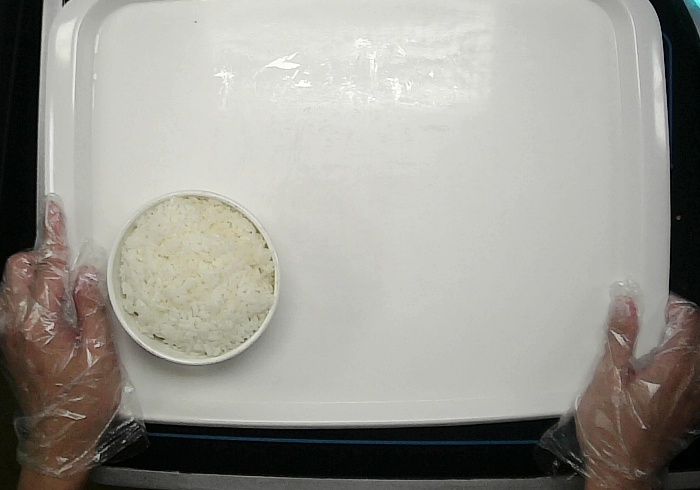HZYJPL-Fan_Wan: (107, 190, 280, 367)
